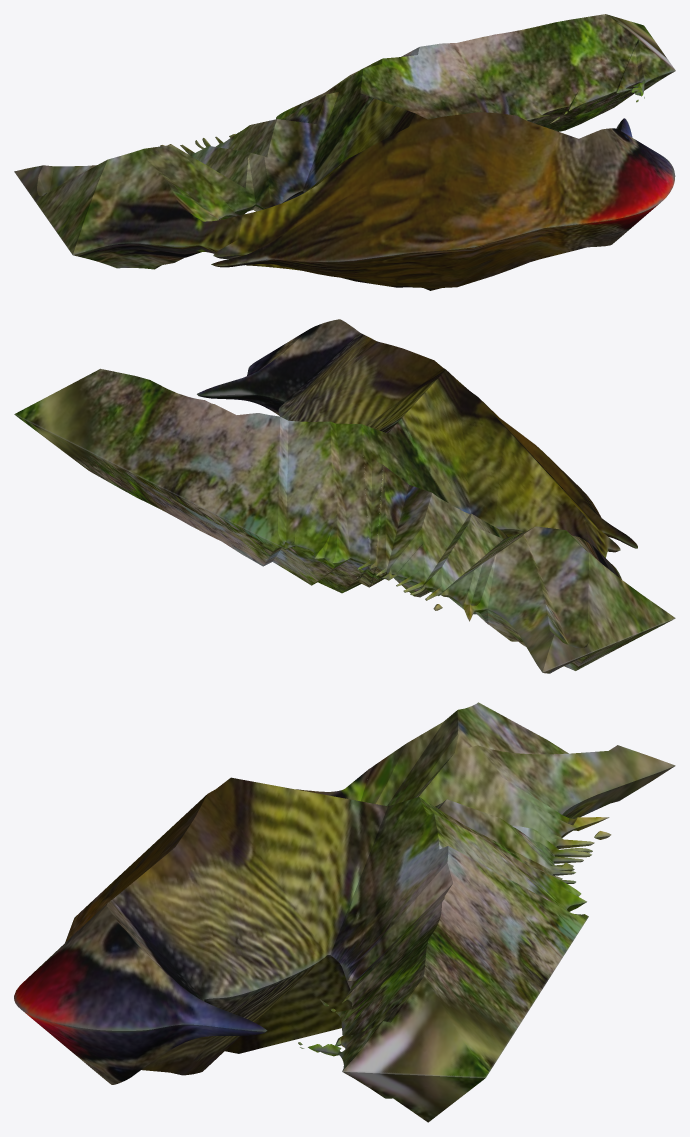
The model's file is Colaptes_rubiginosus-removebg-preview.gltf.
3 views of the same model, one above another, from view 1: azimuth 30°, elevation 25°; view 2: azimuth 150°, elevation 25°; view 3: azimuth 270°, elevation 25° (orthographic). The views are drawn at different scales.
Parts seen in each view (by area): view 1: node1; view 2: node1; view 3: node1.
Boxes of the visible parts, left/top/right/bottom form: node1: left=14, top=14, right=675, bottom=290; node1: left=14, top=319, right=675, bottom=673; node1: left=14, top=702, right=675, bottom=1122.
Size of the model in its own units: 1.23 by 0.3624 by 0.8245.
Materials: 1 (1 with a texture image).
